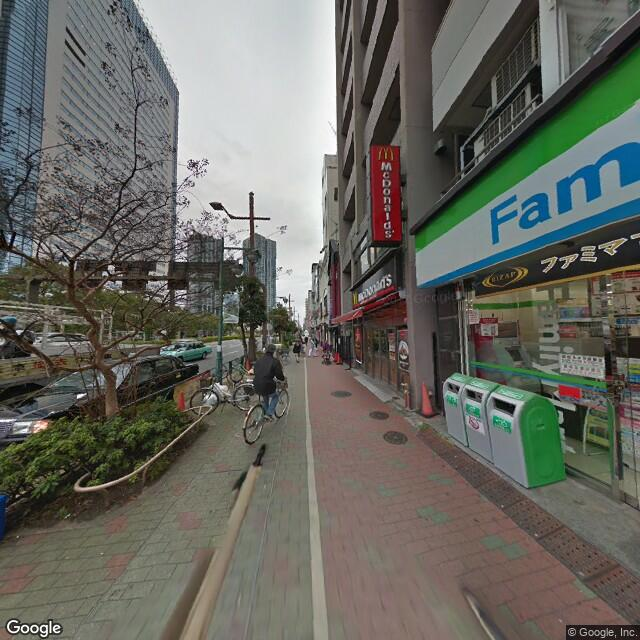family_mart: (416, 37, 639, 298)
